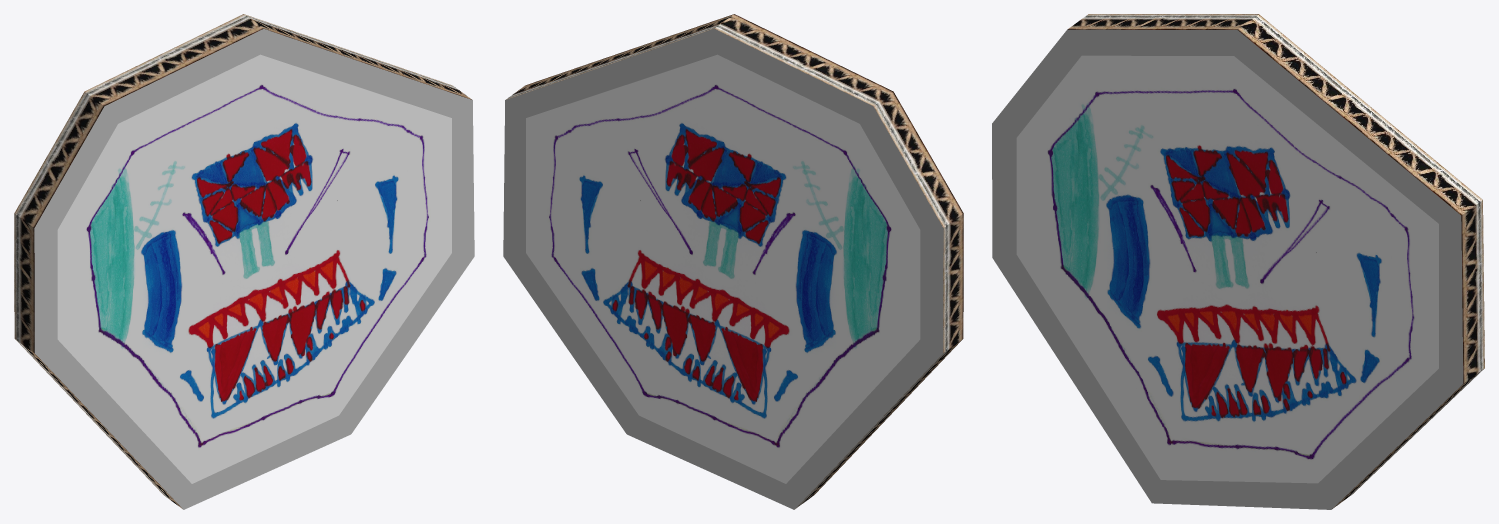
Rendered from Abstrakti.fbx.
The picture shows the model from 3 angles, left to right: view 1: azimuth 30°, elevation 25°; view 2: azimuth 150°, elevation 25°; view 3: azimuth 330°, elevation 25°; orthographic projection. The views are drawn at different scales.
Visible parts, largest first — view 1: Abstrakti; view 2: Abstrakti; view 3: Abstrakti.
Part boxes in pixels (box(x1,y1,x2,y2)): Abstrakti: box(14, 14, 474, 509); Abstrakti: box(503, 14, 963, 509); Abstrakti: box(992, 14, 1484, 509).
Size of the model in its own units: 223 by 224 by 17.69.
